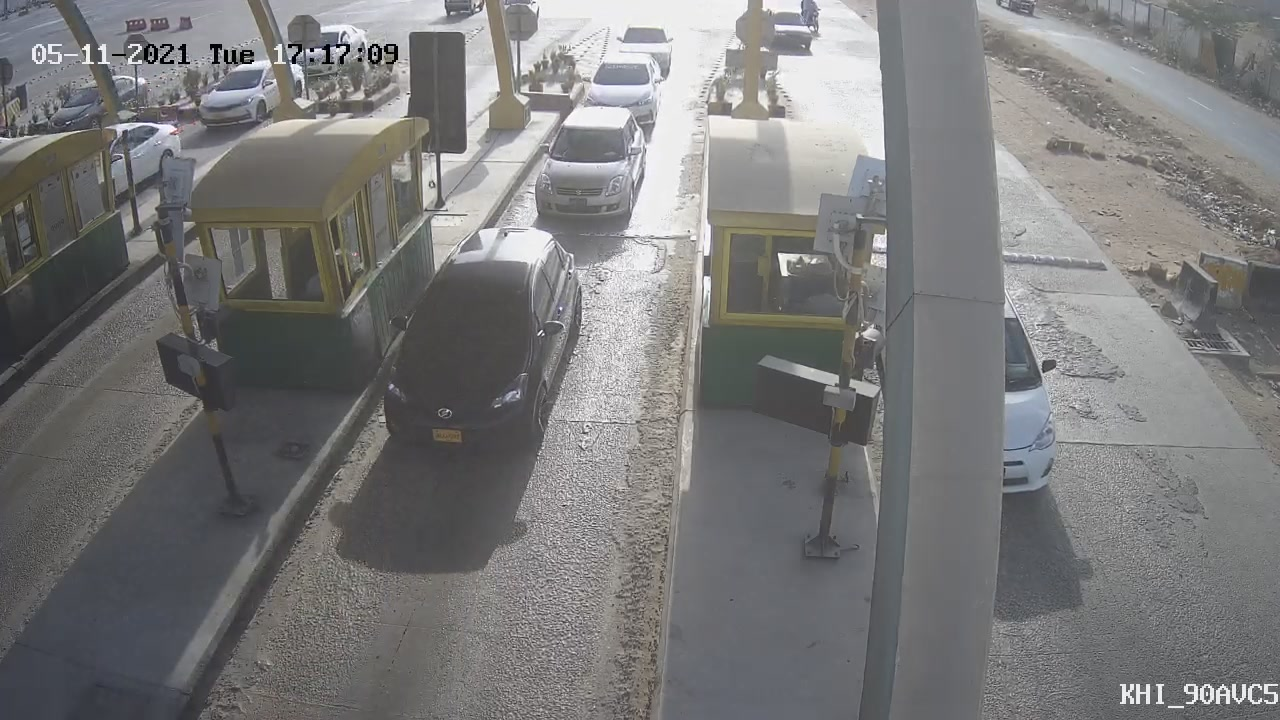F1: (359, 214, 604, 481), (518, 95, 660, 244)
